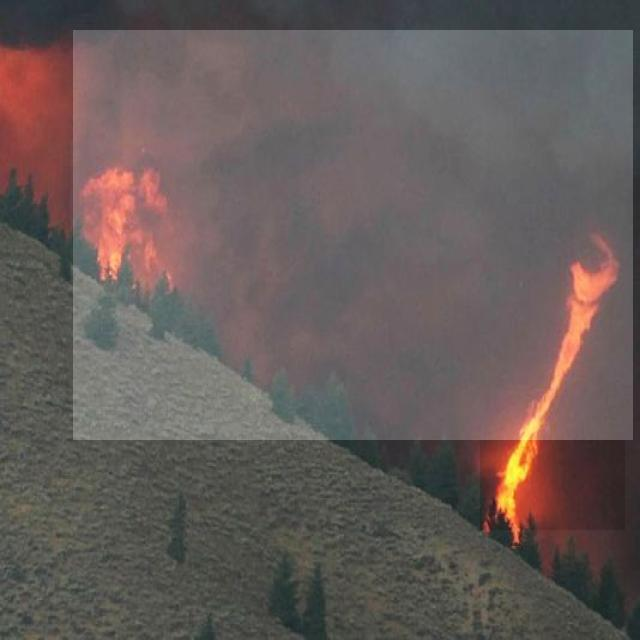Fire: (480, 234, 625, 530), (70, 140, 168, 283)
Smoke: (73, 30, 633, 440)
